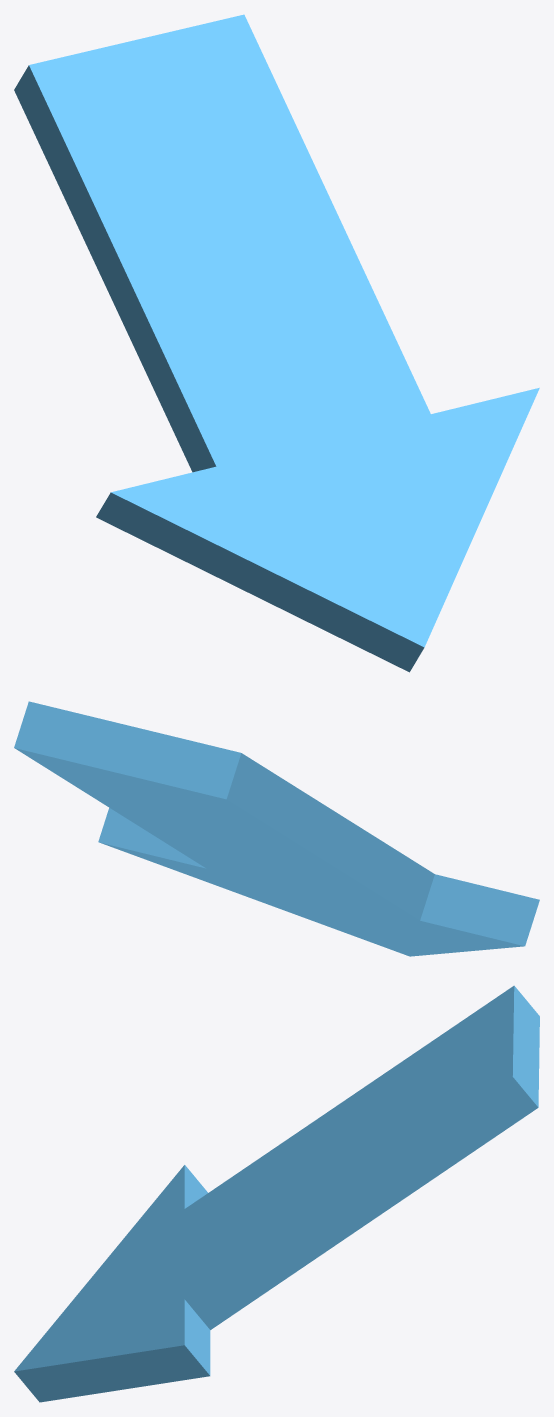
File: ArrowSouth.gltf
The picture shows the model from 3 angles, top to bottom: view 1: azimuth 30°, elevation 25°; view 2: azimuth 150°, elevation 25°; view 3: azimuth 270°, elevation 25°; orthographic projection. The views are drawn at different scales.
Parts seen in each view (by area): view 1: Arrow; view 2: Arrow; view 3: Arrow.
Part boxes in pixels (x1,y1,x2,y2): Arrow: (14, 14, 539, 672); Arrow: (14, 701, 539, 956); Arrow: (14, 985, 539, 1402).
Bounding box in the file's own units: 5 × 4.81 × 6.15.
